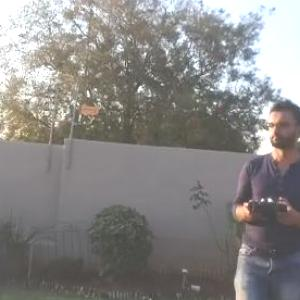follow: (224, 97, 299, 299)
